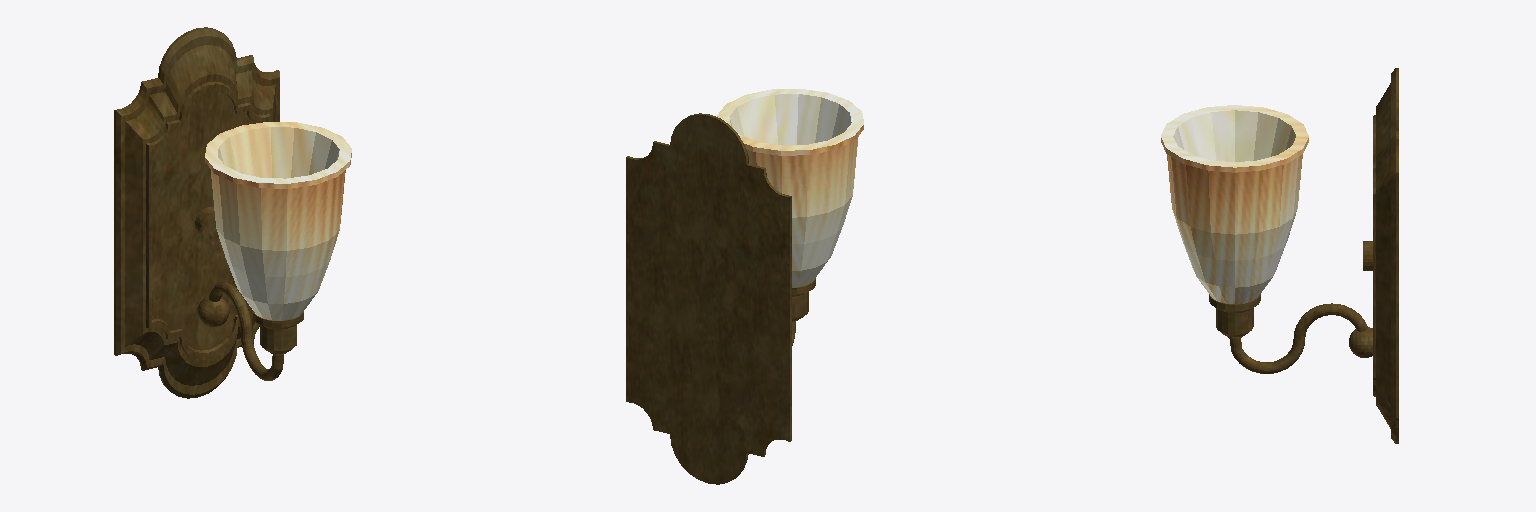
3 views of the same model, side by side, from view 1: azimuth 30°, elevation 25°; view 2: azimuth 150°, elevation 25°; view 3: azimuth 270°, elevation 25° (orthographic).
Visible parts, largest first — view 1: WallLight_Captain.obj; view 2: WallLight_Captain.obj; view 3: WallLight_Captain.obj.
Part boxes in pixels (bbox=[...]): WallLight_Captain.obj: bbox=[114, 27, 351, 398]; WallLight_Captain.obj: bbox=[626, 89, 863, 484]; WallLight_Captain.obj: bbox=[1161, 68, 1398, 443].
Size of the model in its own units: 5.8 by 12.47 by 7.33.
Materials: 1 (1 with a texture image).